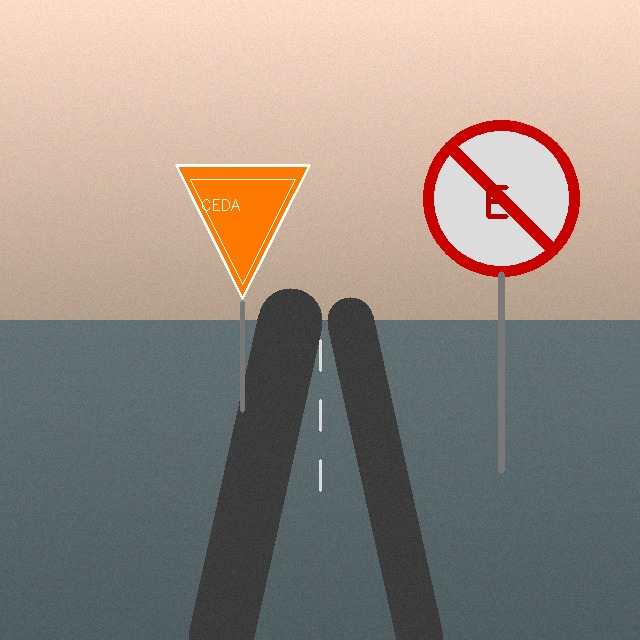ceda_el_paso: (172, 161, 313, 302)
no_estacionar: (426, 123, 577, 274)
